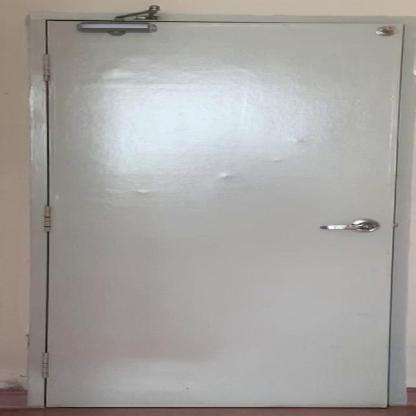door: (22, 5, 406, 408)
